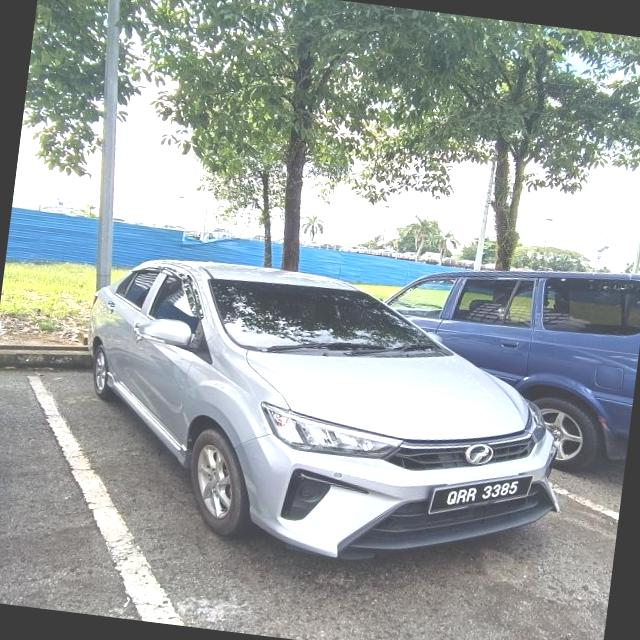PeroduaBezza: (61, 244, 586, 585)
